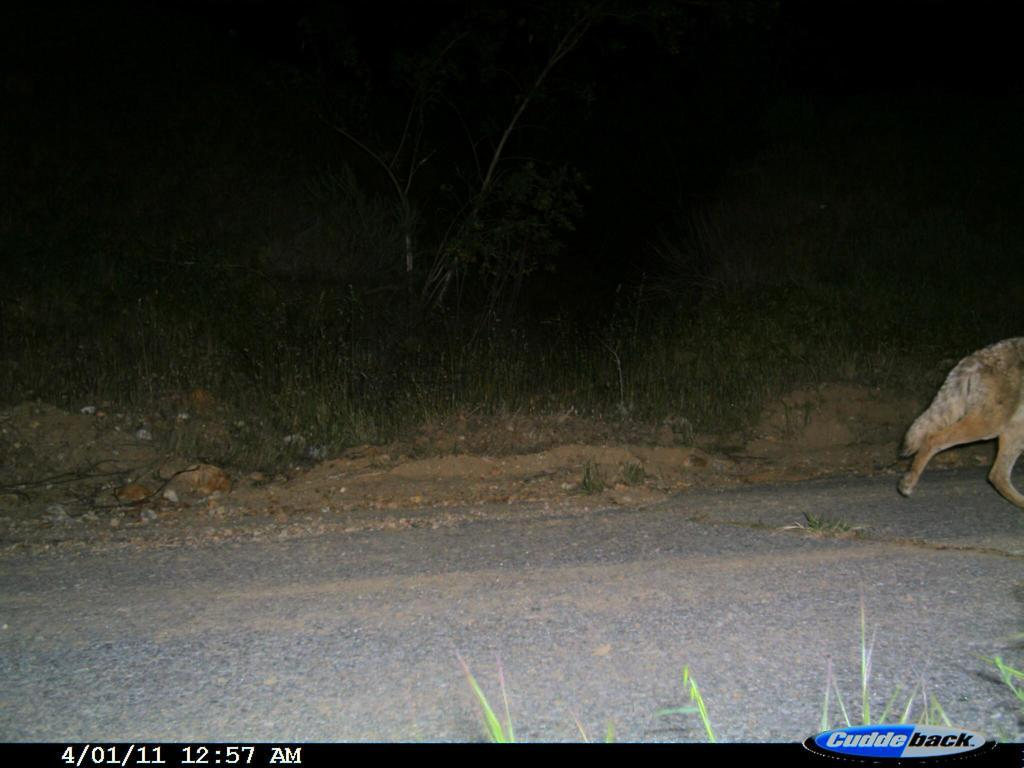coyote: (881, 327, 1023, 519)
